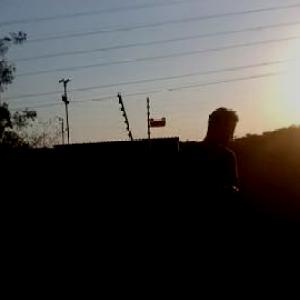follow: (166, 101, 244, 299)
